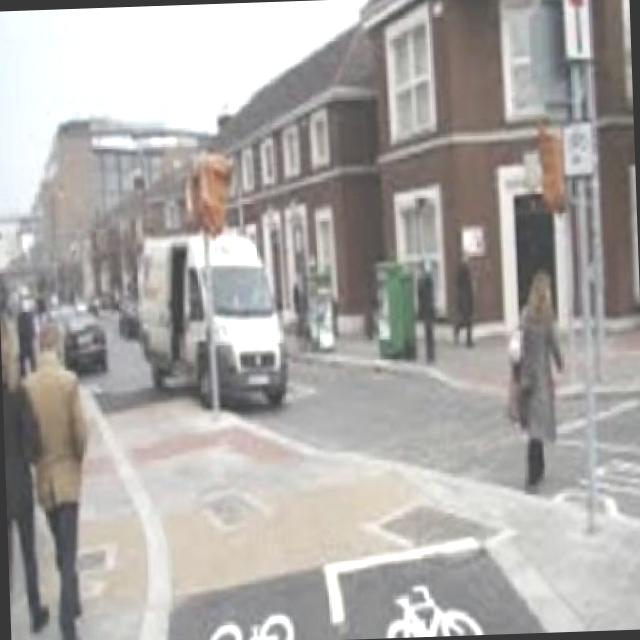Person: (27, 312, 113, 640), (502, 267, 584, 498), (0, 299, 51, 640)
